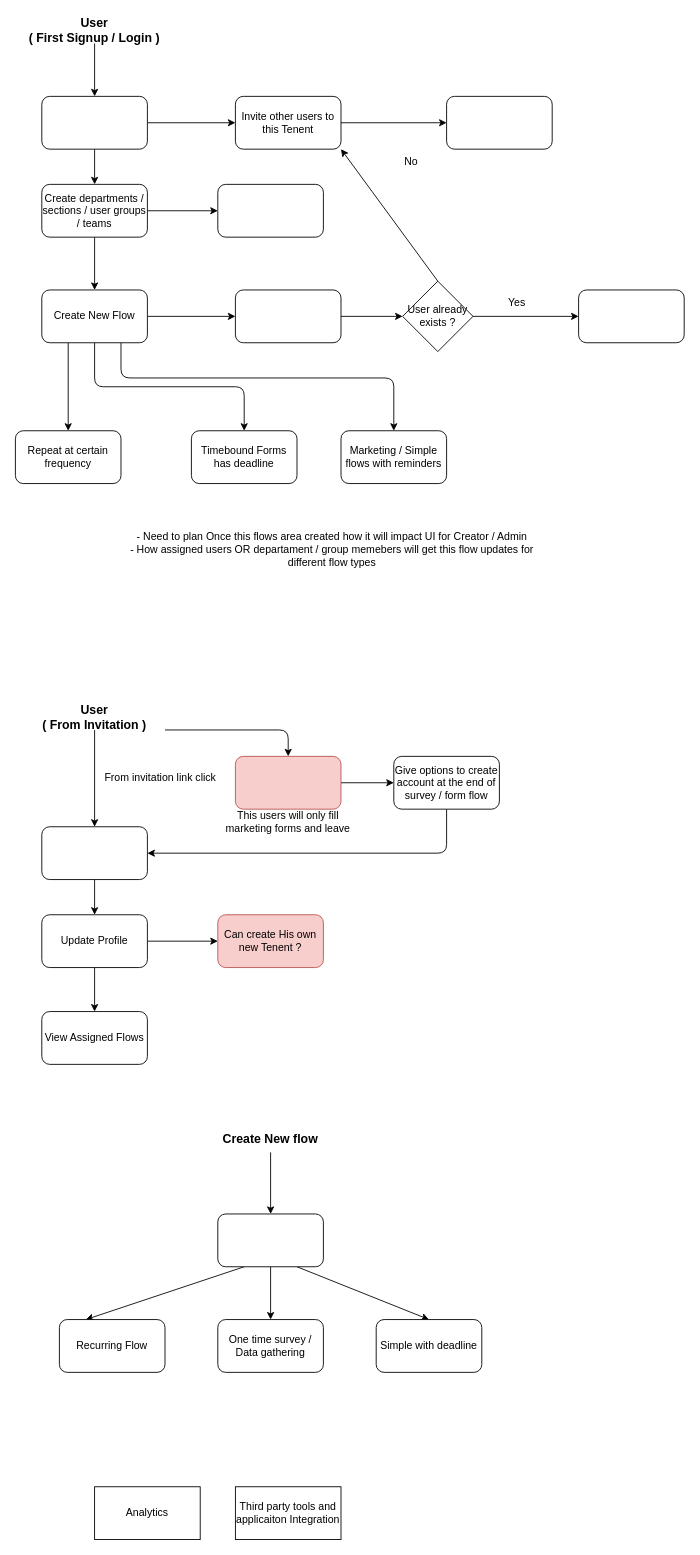
The diagram is 700 pixels wide and 1555 high, and some of its shapes have lost their labels. Each missing label, with the centre of its shape:
"Assign users / departments to this Flow" belongs at point 288,316.
"Create Tenent Type: Individual | company" belongs at point 94,122.
"Flow Type select" belongs at point 270,1240.
"Handle if invited only as external and don't need to create an account" belongs at point 288,782.
"Manage permissions, roles, departments" belongs at point 270,210.
"Send notifications and update assignee dashboard entries" belongs at point 631,316.
"Set new password" belongs at point 94,853.
"View List of invitations and status of each invite" belongs at point 499,122.
